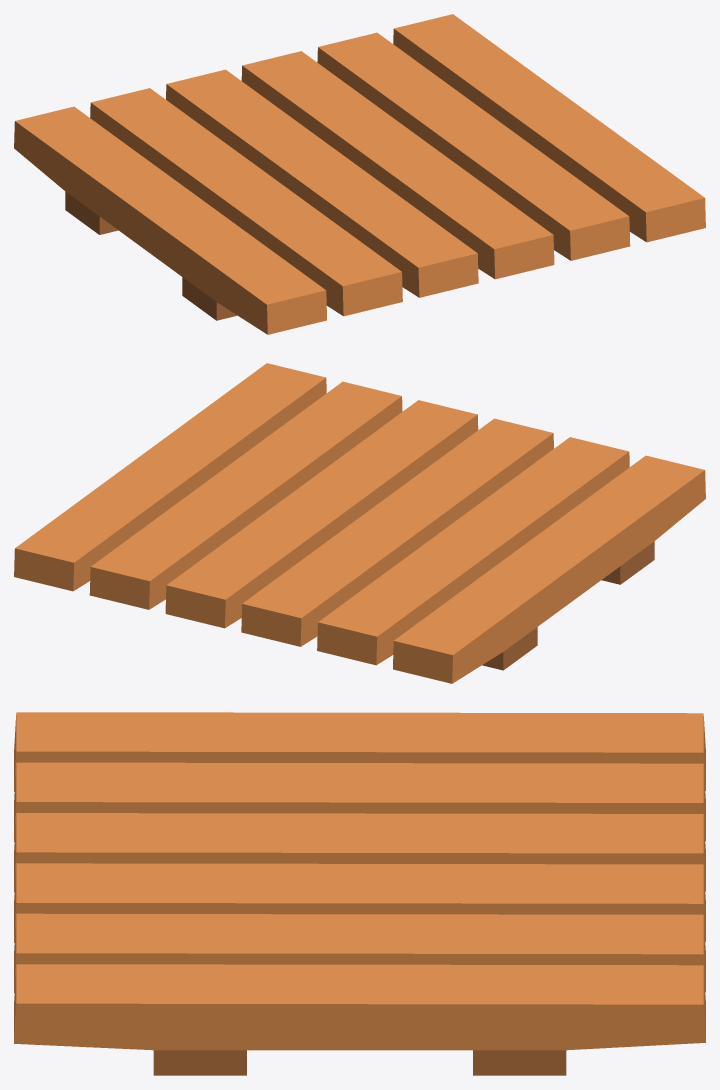
The model's file is floor.obj.
3 renders of one model, top to bottom at view 1: azimuth 30°, elevation 25°; view 2: azimuth 150°, elevation 25°; view 3: azimuth 270°, elevation 25°, orthographic. The views are drawn at different scales.
Parts seen in each view (by area): view 1: floor; view 2: floor; view 3: floor.
Part boxes in pixels (box(x1,y1,x2,y2)): floor: box(14, 14, 705, 334); floor: box(14, 363, 705, 683); floor: box(14, 712, 705, 1075).
Size of the model in its own units: 0.4893 by 0.0565 by 0.491.
